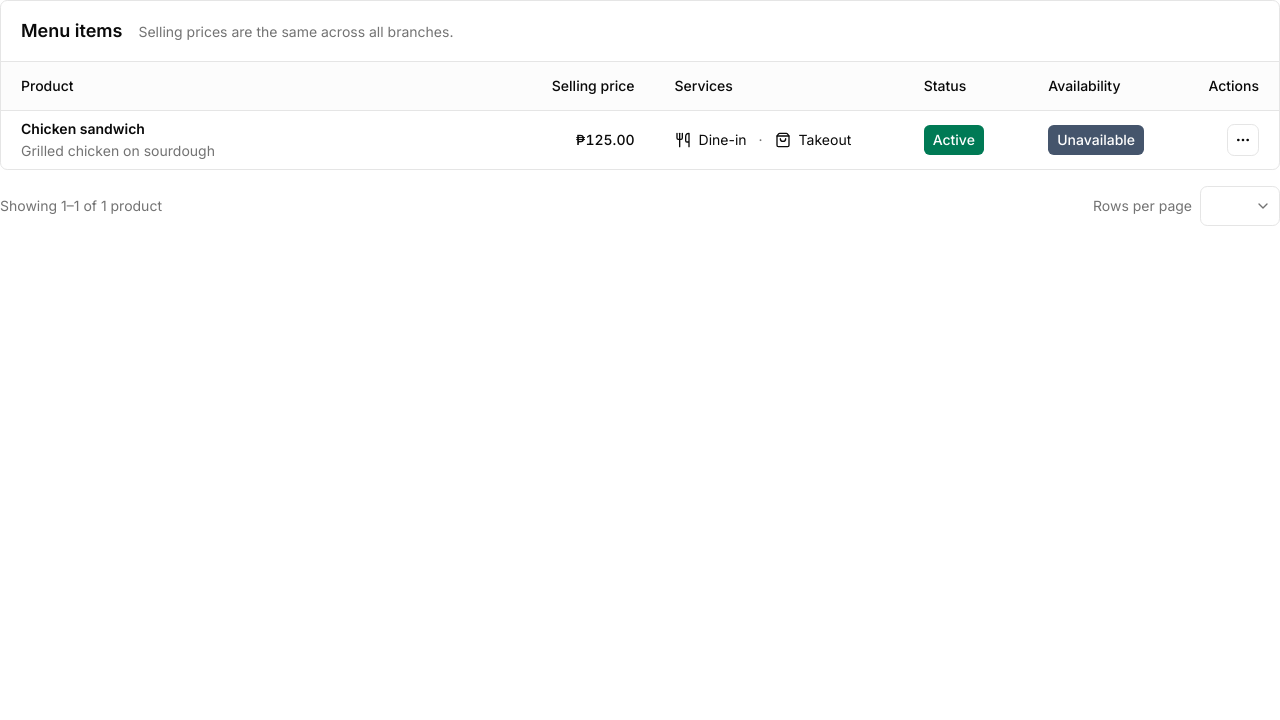
Test case: branch product list › keeps price and availability changes in separate dialogs
Later steps or results of the test are not shown.
Click the button named "Actions for Chicken sandwich": [1243, 140] box [1227,124,1259,156]
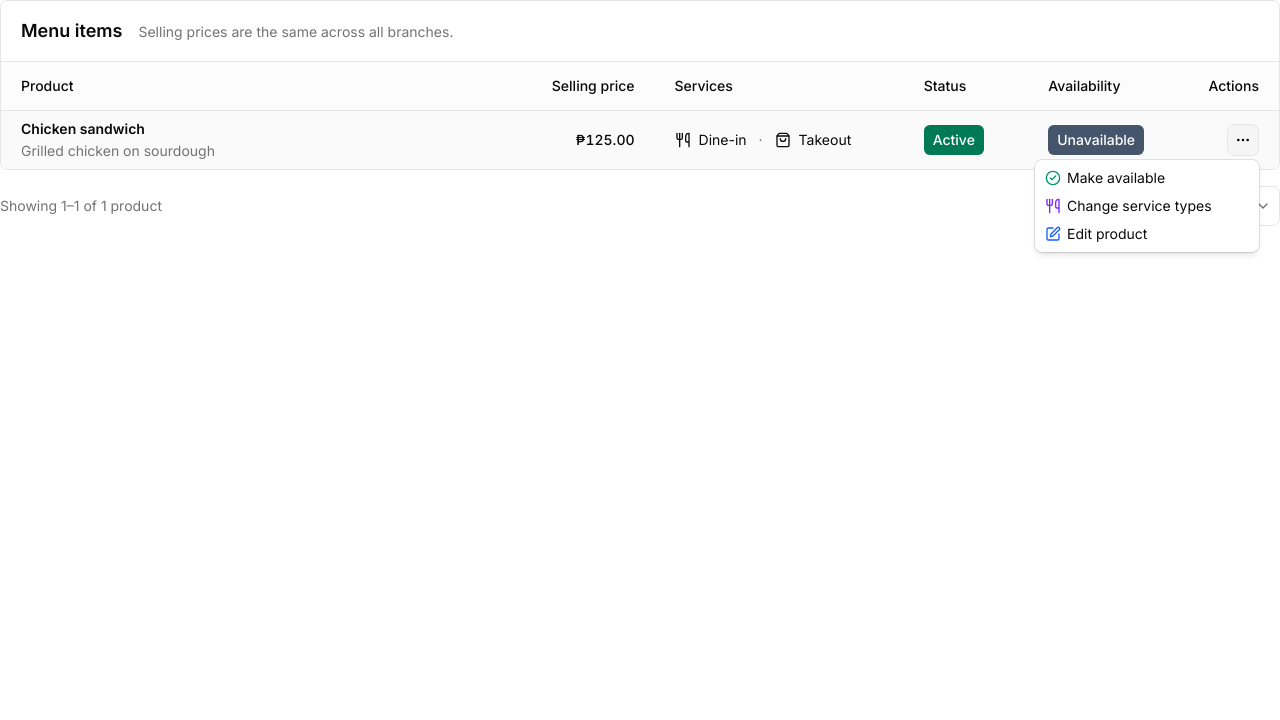
Click the menu item "Make available": [1105, 178] box [1045,169,1165,186]
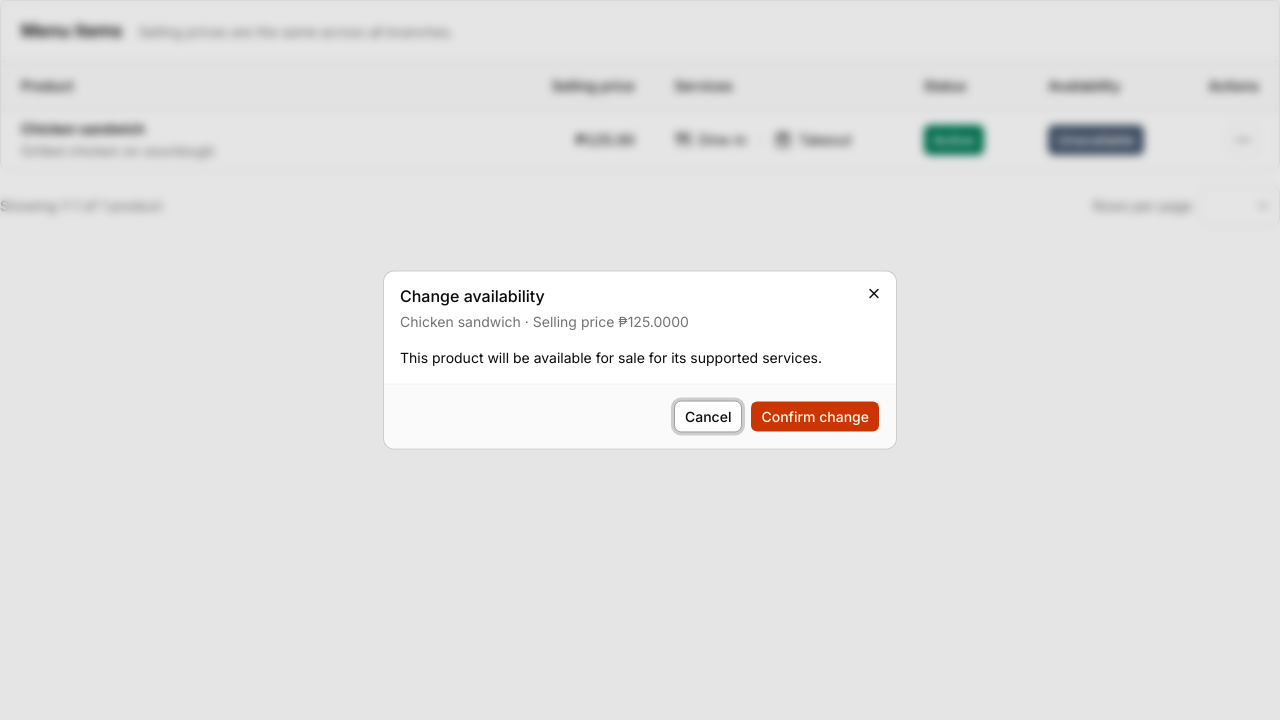
Now the dialog "Change availability" is shown, box [384,272,896,448]
